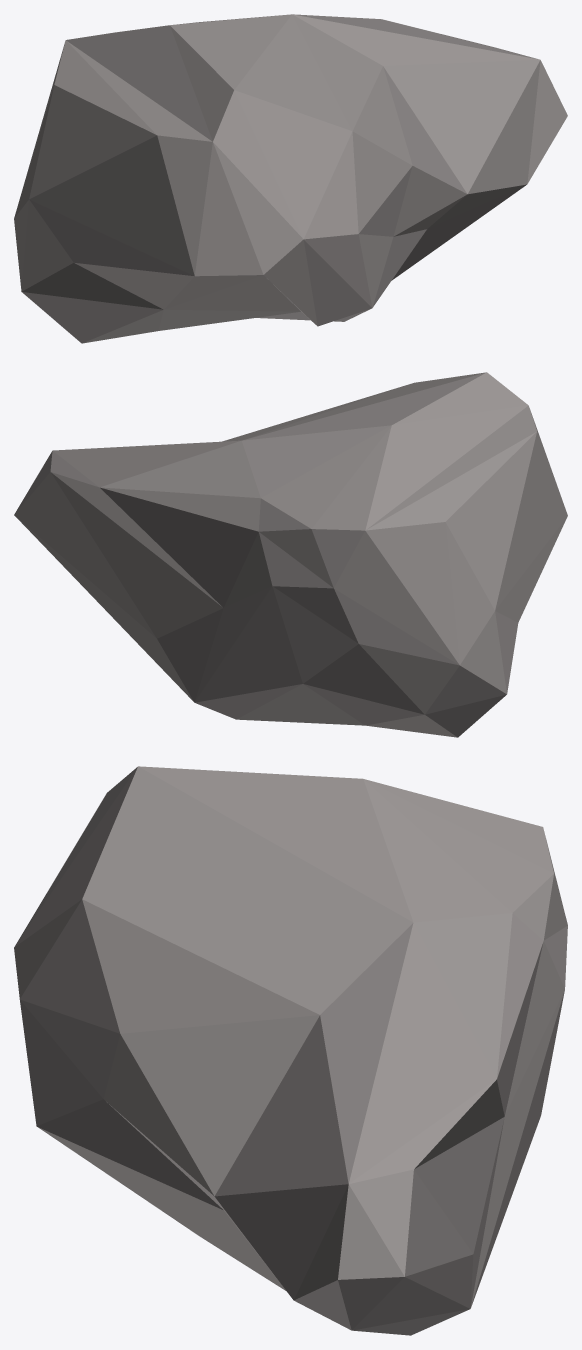
The model's file is SM_Rock_L_02.fbx.
The picture shows the model from 3 angles, top to bottom: view 1: azimuth 30°, elevation 25°; view 2: azimuth 150°, elevation 25°; view 3: azimuth 270°, elevation 25°; orthographic projection. The views are drawn at different scales.
Visible parts, largest first — view 1: SM_Rock_L_02; view 2: SM_Rock_L_02; view 3: SM_Rock_L_02.
Part boxes in pixels (box(x1,y1,x2,y2)): SM_Rock_L_02: box(14, 14, 567, 343); SM_Rock_L_02: box(14, 372, 567, 737); SM_Rock_L_02: box(14, 766, 567, 1335).
Size of the model in its own units: 831 by 480 by 559.
